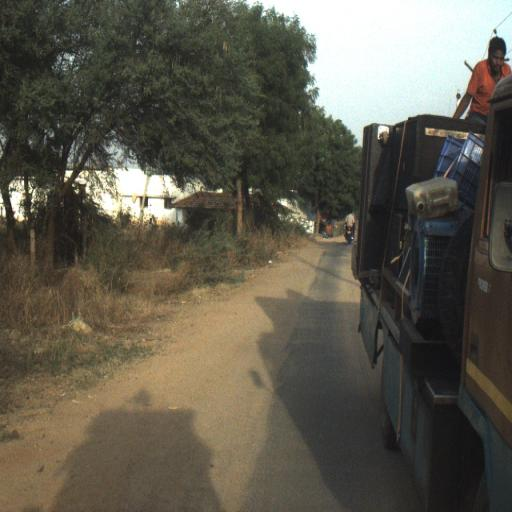street_light_0: (463, 62, 473, 72)
